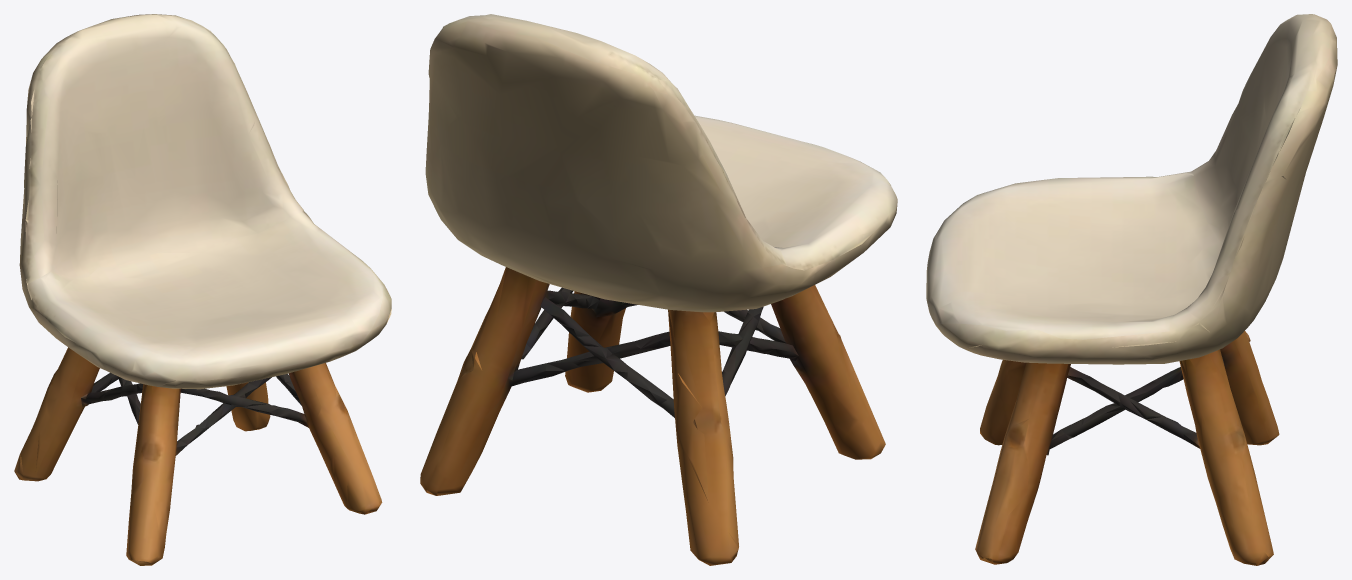
File: chair22.glb
The picture shows the model from 3 angles, left to right: view 1: azimuth 30°, elevation 25°; view 2: azimuth 150°, elevation 25°; view 3: azimuth 270°, elevation 25°; orthographic projection. The views are drawn at different scales.
Bounding box in the file's own units: 0.1762 × 0.2328 × 0.1868.
1 material, 1 textured.
